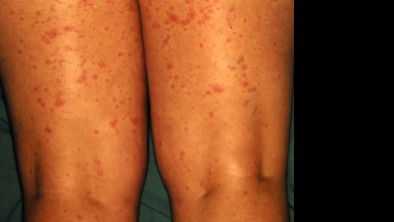SJS-TEN: (134, 0, 299, 222), (0, 0, 150, 222)
